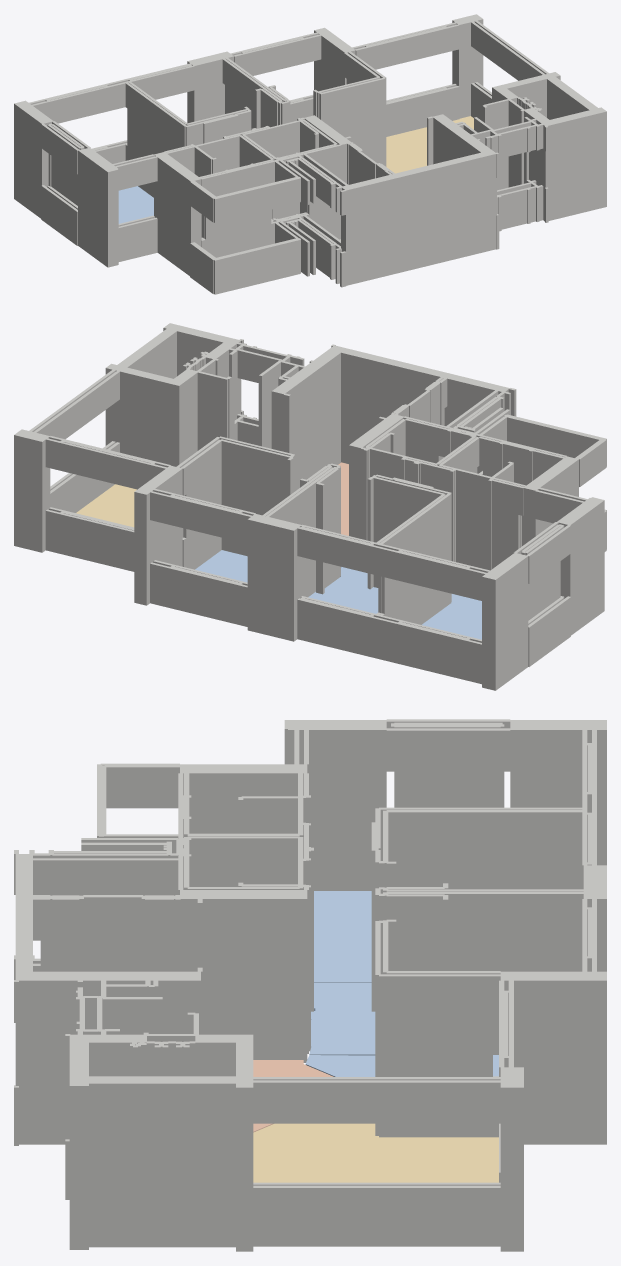
The picture shows the model from 3 angles, top to bottom: view 1: azimuth 30°, elevation 25°; view 2: azimuth 150°, elevation 25°; view 3: azimuth 270°, elevation 25°; orthographic projection. The views are drawn at different scales.
Visible parts, largest first — view 1: walls, room:living:8, room:bedroom:7; view 2: walls, room:bedroom:0, room:bedroom:7, room:living:8, room:bedroom:6, room:kitchen:2; view 3: walls, room:living:8, room:bedroom:7, room:bedroom:0, room:bedroom:6, room:kitchen:2.
Part boxes in pixels (x1,y1,x2,y2): walls: (14, 14, 606, 294); room:living:8: (386, 116, 473, 173); room:bedroom:7: (118, 186, 153, 223); walls: (14, 323, 606, 690); room:bedroom:0: (308, 567, 378, 613); room:bedroom:7: (422, 594, 481, 639); room:living:8: (76, 484, 136, 527); room:bedroom:6: (195, 550, 341, 582); room:kitchen:2: (338, 462, 348, 535); walls: (14, 719, 606, 1251); room:living:8: (253, 1123, 498, 1182); room:bedroom:7: (314, 891, 371, 982); room:bedroom:0: (309, 983, 375, 1055); room:bedroom:6: (305, 1055, 498, 1076); room:kitchen:2: (253, 1060, 333, 1132).
Bounding box in the file's own units: 13.49 × 2.8 × 9.18.
